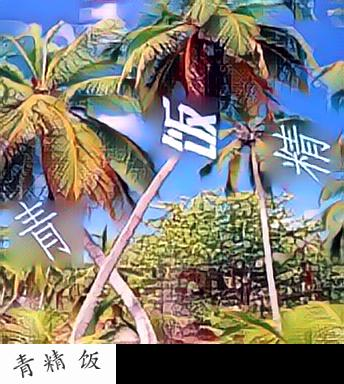character: (155, 93, 223, 163), (12, 197, 77, 266), (270, 122, 334, 187)
